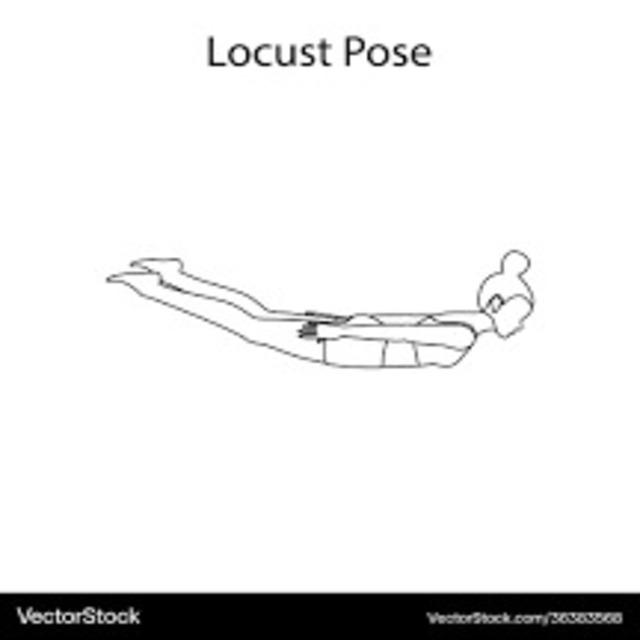Locust_Pose: (99, 248, 541, 383)
